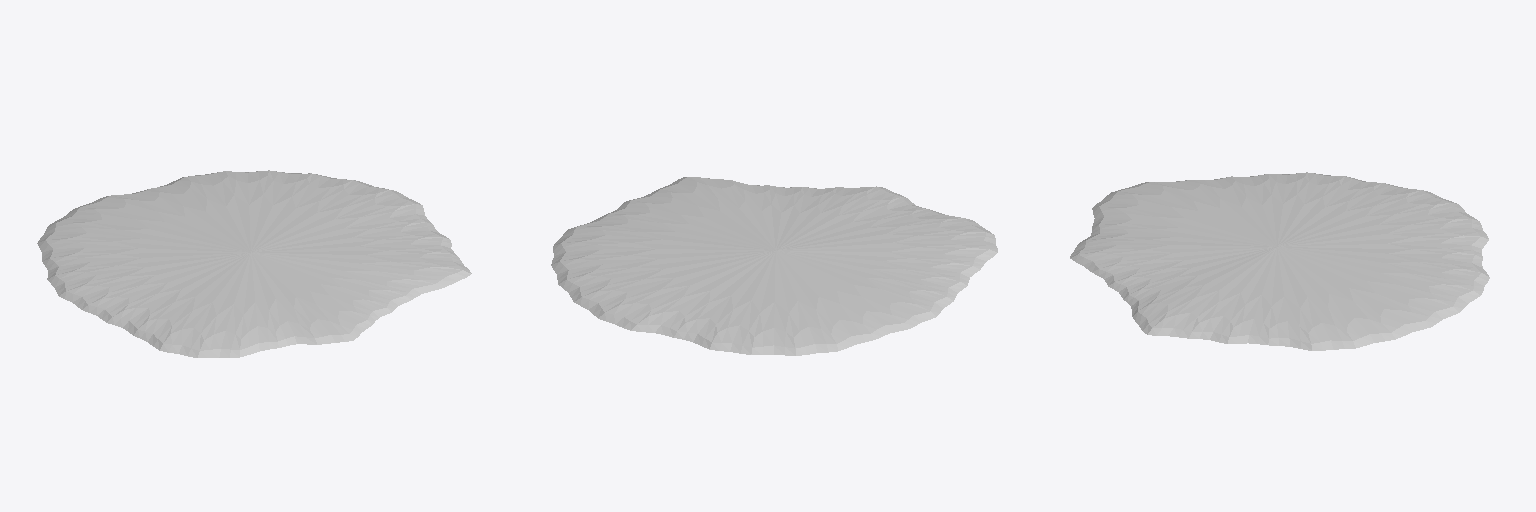
Rendered from area.obj.
3 views of the same model, side by side, from view 1: azimuth 30°, elevation 25°; view 2: azimuth 150°, elevation 25°; view 3: azimuth 270°, elevation 25° (orthographic).
Visible parts, largest first — view 1: transparent; view 2: transparent; view 3: transparent.
Part boxes in pixels (x1,y1,x2,y2): transparent: (37, 170, 471, 357); transparent: (551, 177, 997, 355); transparent: (1070, 172, 1489, 350).
Bounding box in the file's own units: 242 × 7.5 × 241.